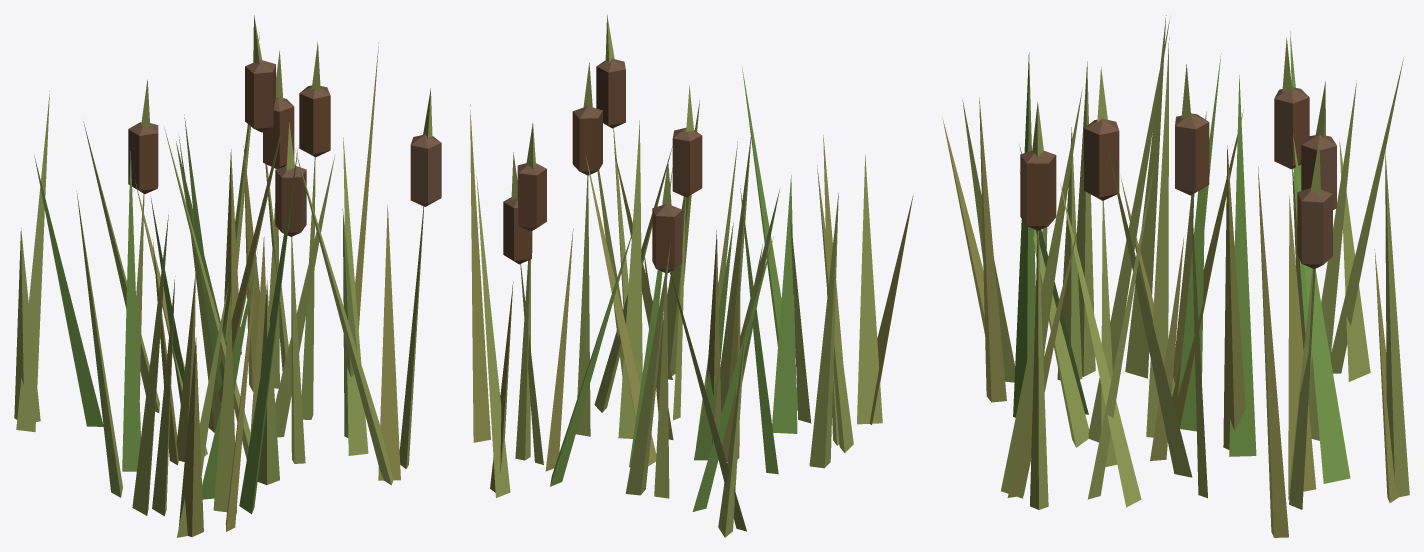
The model's file is reeds_patch.fbx.
The picture shows the model from 3 angles, left to right: view 1: azimuth 30°, elevation 25°; view 2: azimuth 150°, elevation 25°; view 3: azimuth 270°, elevation 25°; orthographic projection. The views are drawn at different scales.
Parts seen in each view (by area): view 1: reeds_patch; view 2: reeds_patch; view 3: reeds_patch.
Part boxes in pixels (x1,y1,x2,y2): reeds_patch: (14, 15, 441, 537); reeds_patch: (470, 14, 913, 537); reeds_patch: (942, 15, 1409, 537).
Bounding box in the file's own units: 1.43 × 1.53 × 1.49.
